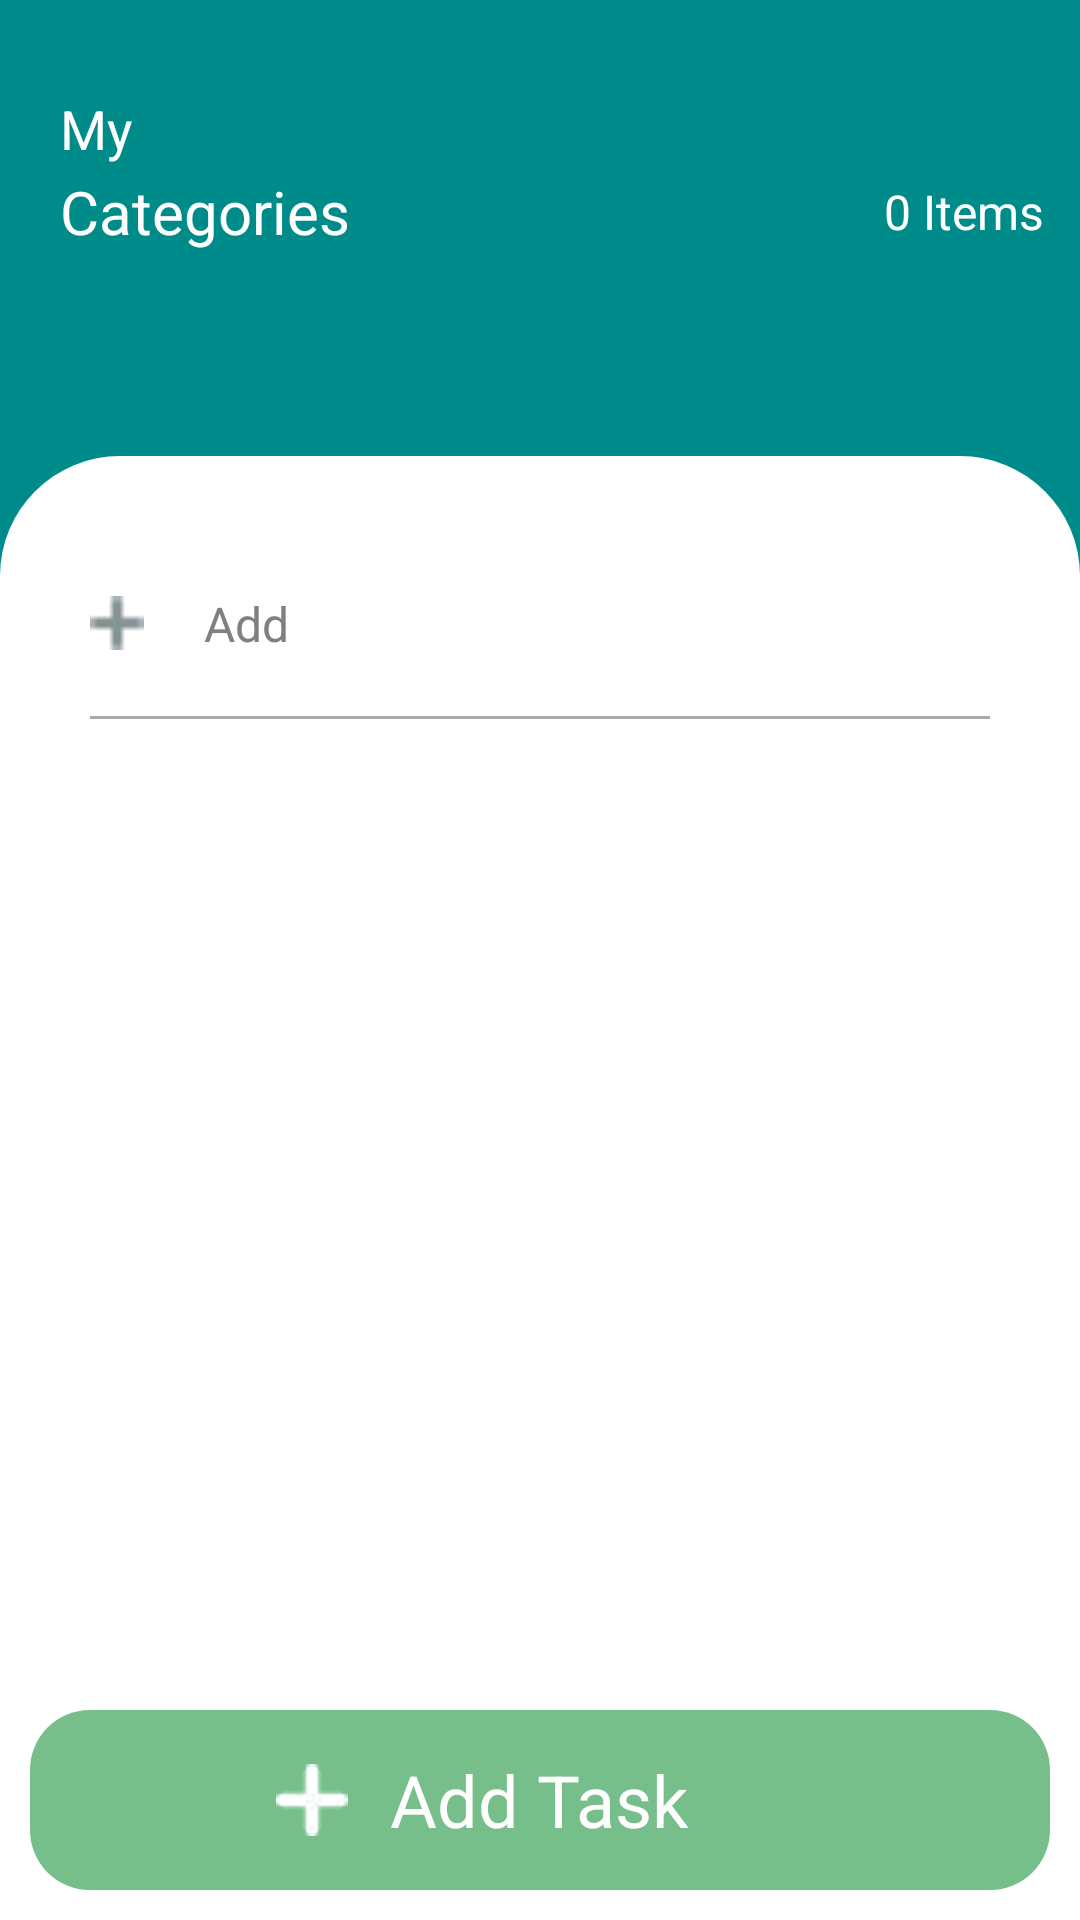

Locate icon controls on the screen. Image size 1080 × 1920, boxes as box(x1, y1, x2, y2).
plus: box(90, 596, 144, 650)
